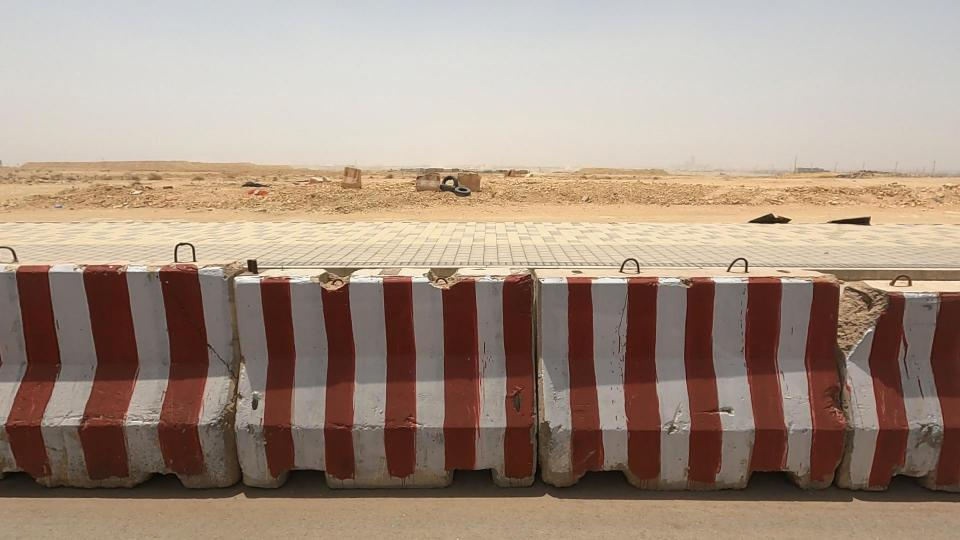CONSTRUCTION_ROAD: (273, 185, 960, 516), (0, 171, 567, 532)
GARBAGE: (388, 135, 511, 238), (802, 183, 906, 260), (720, 183, 828, 256), (211, 152, 300, 240)
